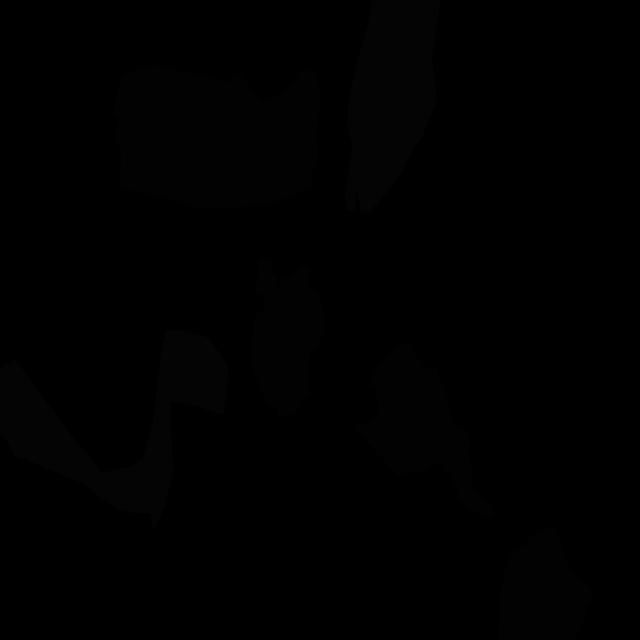cardboard: (112, 64, 320, 209), (353, 342, 494, 518), (251, 258, 324, 416), (499, 528, 593, 640)
soft_plastic: (0, 330, 229, 530), (344, 0, 441, 213)
